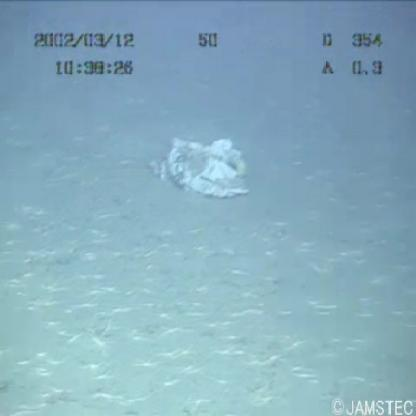Rác: (139, 128, 274, 208)
